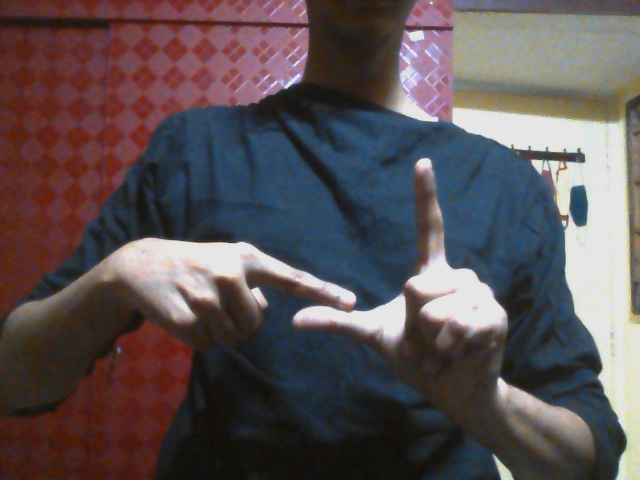J: (153, 156, 508, 395)
